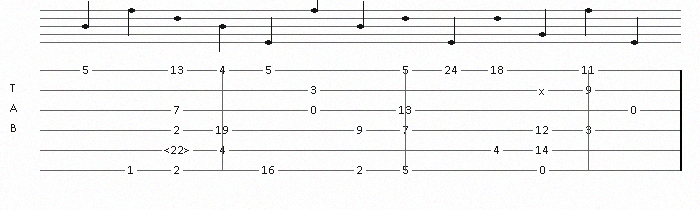0: (310, 104, 321, 116), (539, 164, 550, 176), (630, 104, 641, 116)
1: (127, 164, 138, 176)
11: (581, 64, 599, 76)
12: (535, 124, 553, 136)
13: (170, 64, 188, 76), (398, 104, 416, 116)
14: (535, 144, 553, 156)
16: (261, 164, 279, 176)
18: (490, 64, 508, 76)
19: (215, 124, 233, 136)
2: (173, 164, 184, 176), (173, 124, 184, 136), (356, 164, 367, 176)
24: (444, 64, 462, 76)
3: (310, 84, 321, 96), (585, 124, 596, 136)
4: (219, 64, 230, 76), (219, 144, 230, 156), (493, 144, 504, 156)
5: (82, 64, 93, 76), (265, 64, 276, 76), (402, 164, 413, 176), (402, 64, 413, 76)
7: (173, 104, 184, 116), (402, 124, 413, 136)
9: (356, 124, 367, 136), (585, 84, 596, 96)
harmonic: (164, 144, 194, 156)
x: (539, 85, 549, 95)
